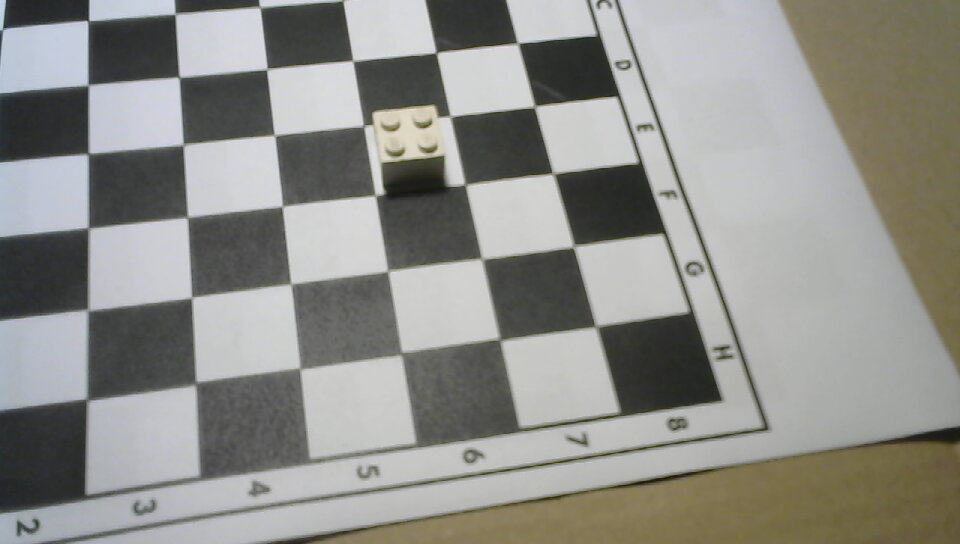wp: (362, 98, 457, 197)
